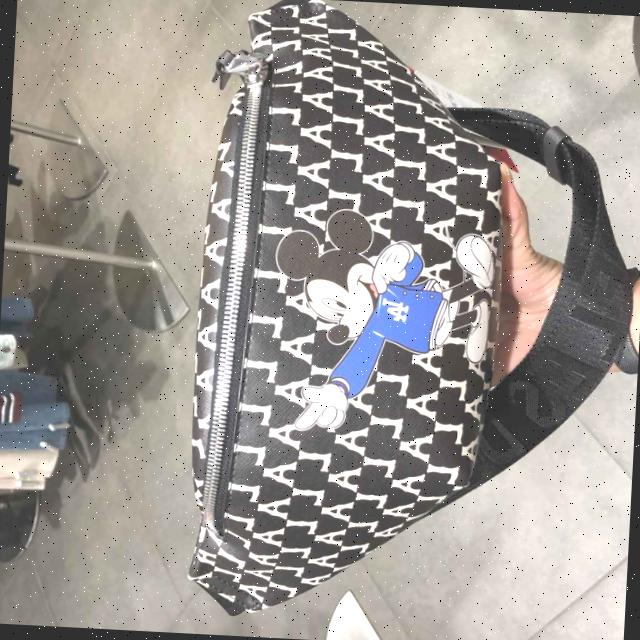handbag: (177, 0, 515, 628)
